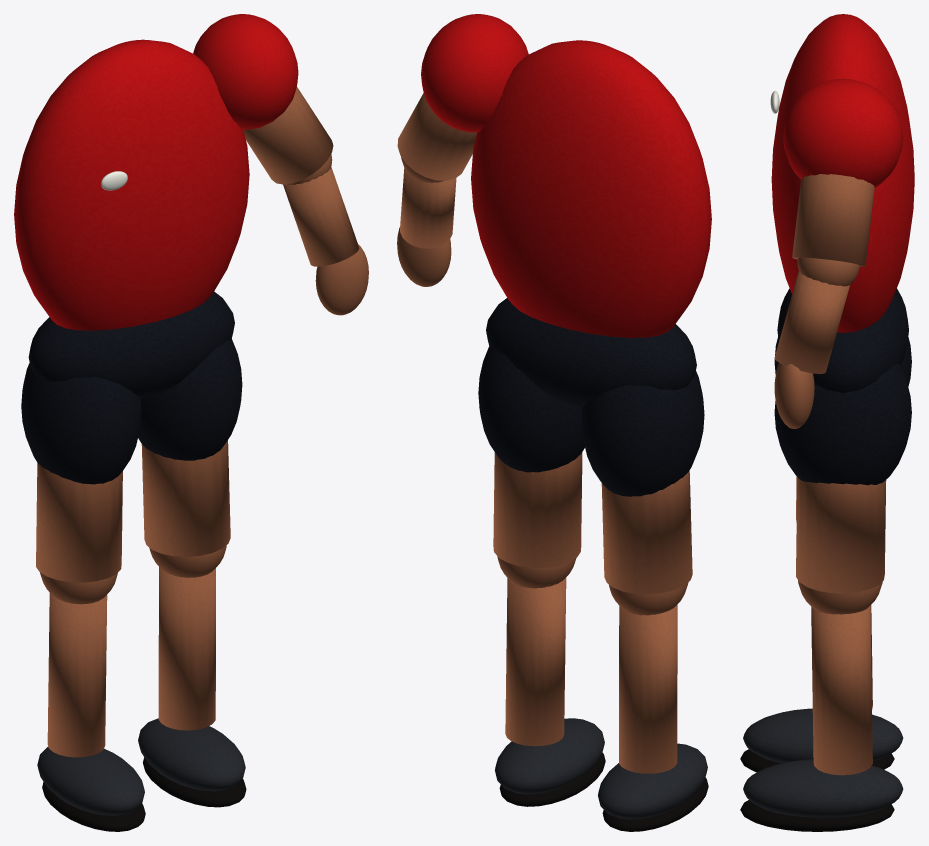
Rendered from jugador_rojo_cuerpo.obj.
3 views of the same model, side by side, from view 1: azimuth 30°, elevation 25°; view 2: azimuth 150°, elevation 25°; view 3: azimuth 270°, elevation 25° (orthographic). The views are drawn at different scales.
Visible parts, largest first — view 1: Jugador_Rojo_cuerpo_Camiseta_Roja, Jugador_Rojo_cuerpo_Piel, Jugador_Rojo_cuerpo_Pantalon_Oscuro, Jugador_Rojo_cuerpo_Zapatillas, Jugador_Rojo_cuerpo_Ojos_y_Boca; view 2: Jugador_Rojo_cuerpo_Camiseta_Roja, Jugador_Rojo_cuerpo_Piel, Jugador_Rojo_cuerpo_Pantalon_Oscuro, Jugador_Rojo_cuerpo_Zapatillas, Jugador_Rojo_cuerpo_Ojos_y_Boca; view 3: Jugador_Rojo_cuerpo_Piel, Jugador_Rojo_cuerpo_Camiseta_Roja, Jugador_Rojo_cuerpo_Pantalon_Oscuro, Jugador_Rojo_cuerpo_Zapatillas, Jugador_Rojo_cuerpo_Ojos_y_Boca.
Part boxes in pixels (box(x1,y1,x2,y2)): Jugador_Rojo_cuerpo_Camiseta_Roja: box(14, 14, 298, 330); Jugador_Rojo_cuerpo_Piel: box(36, 86, 368, 757); Jugador_Rojo_cuerpo_Pantalon_Oscuro: box(21, 291, 242, 484); Jugador_Rojo_cuerpo_Zapatillas: box(37, 718, 245, 815); Jugador_Rojo_cuerpo_Ojos_y_Boca: box(42, 757, 246, 831); Jugador_Rojo_cuerpo_Camiseta_Roja: box(421, 14, 711, 337); Jugador_Rojo_cuerpo_Piel: box(397, 93, 692, 773); Jugador_Rojo_cuerpo_Pantalon_Oscuro: box(478, 298, 704, 496); Jugador_Rojo_cuerpo_Zapatillas: box(495, 718, 707, 819); Jugador_Rojo_cuerpo_Ojos_y_Boca: box(499, 752, 708, 831); Jugador_Rojo_cuerpo_Piel: box(774, 174, 886, 775); Jugador_Rojo_cuerpo_Camiseta_Roja: box(771, 14, 914, 332); Jugador_Rojo_cuerpo_Pantalon_Oscuro: box(774, 288, 911, 485); Jugador_Rojo_cuerpo_Zapatillas: box(743, 708, 903, 817); Jugador_Rojo_cuerpo_Ojos_y_Boca: box(740, 749, 894, 831).
Size of the model in its own units: 0.677 by 1.49 by 0.305.
